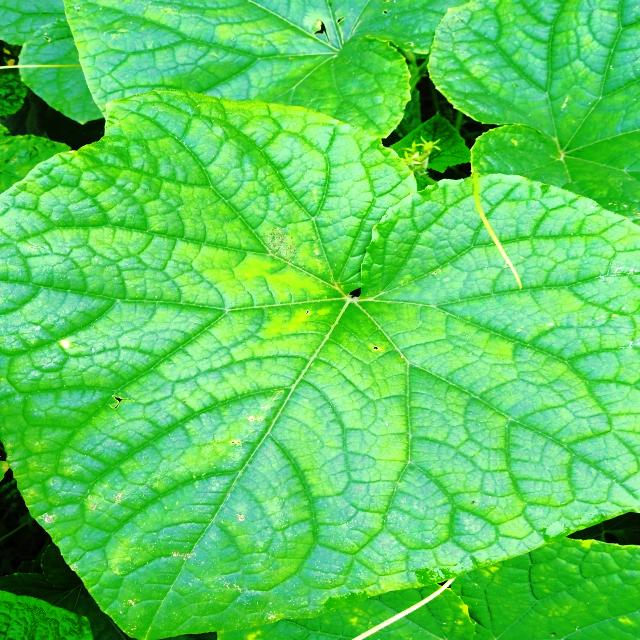Fresh-Leaf: (0, 88, 640, 638)
